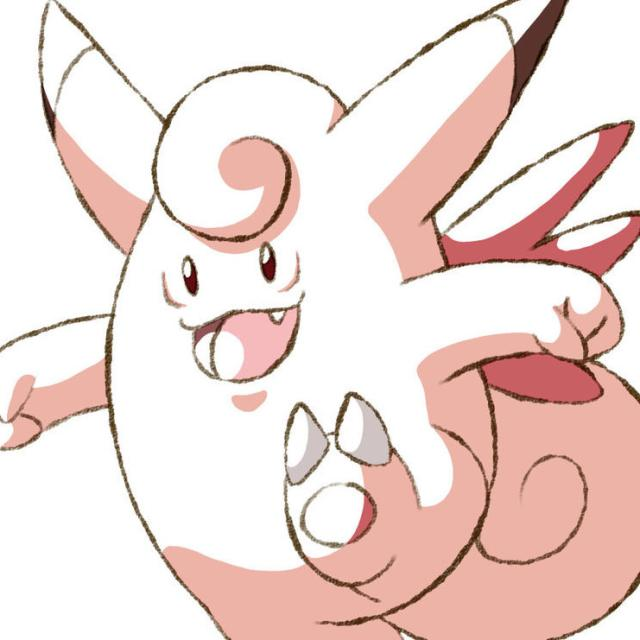Clefable: (23, 0, 569, 640)
